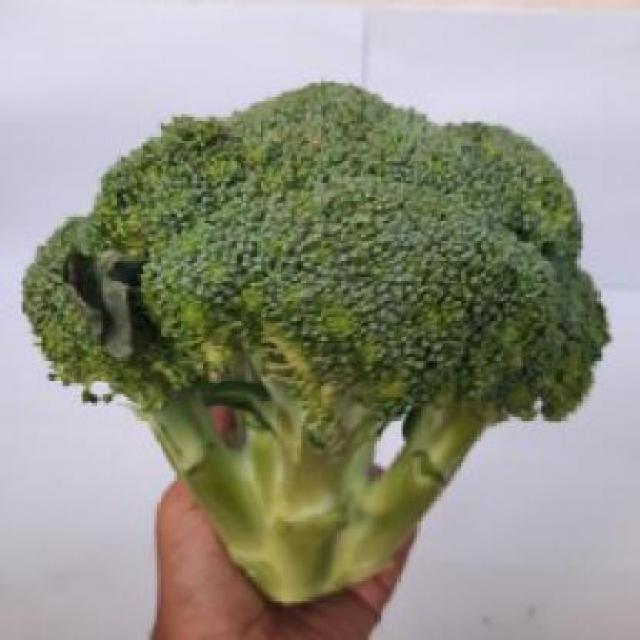broccoli: (24, 72, 604, 590)
